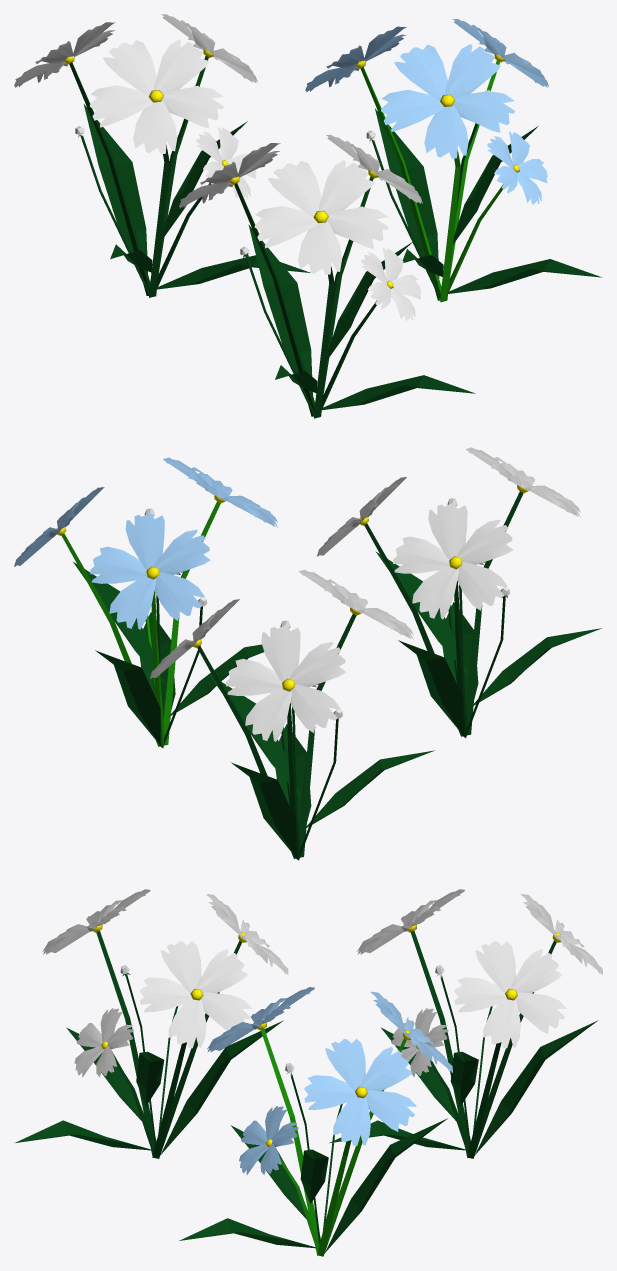
The model's file is manzanilla.glb.
3 renders of one model, top to bottom at view 1: azimuth 30°, elevation 25°; view 2: azimuth 150°, elevation 25°; view 3: azimuth 270°, elevation 25°, orthographic. The views are drawn at different scales.
Parts seen in each view (by area): view 1: Circle.008, Circle.015, Circle.003; view 2: Circle.008, Circle.003, Circle.015; view 3: Circle.015, Circle.008, Circle.003.
Boxes of the visible parts, <box> form: Circle.008: <box>179,135,475,418</box>; Circle.015: <box>305,18,602,302</box>; Circle.003: <box>14,14,310,297</box>; Circle.008: <box>317,447,602,737</box>; Circle.003: <box>150,569,434,860</box>; Circle.015: <box>14,457,277,748</box>; Circle.015: <box>179,987,452,1256</box>; Circle.008: <box>14,889,288,1158</box>; Circle.003: <box>329,889,602,1158</box>.
Size of the model in its own units: 2.92 by 1.78 by 3.72.
